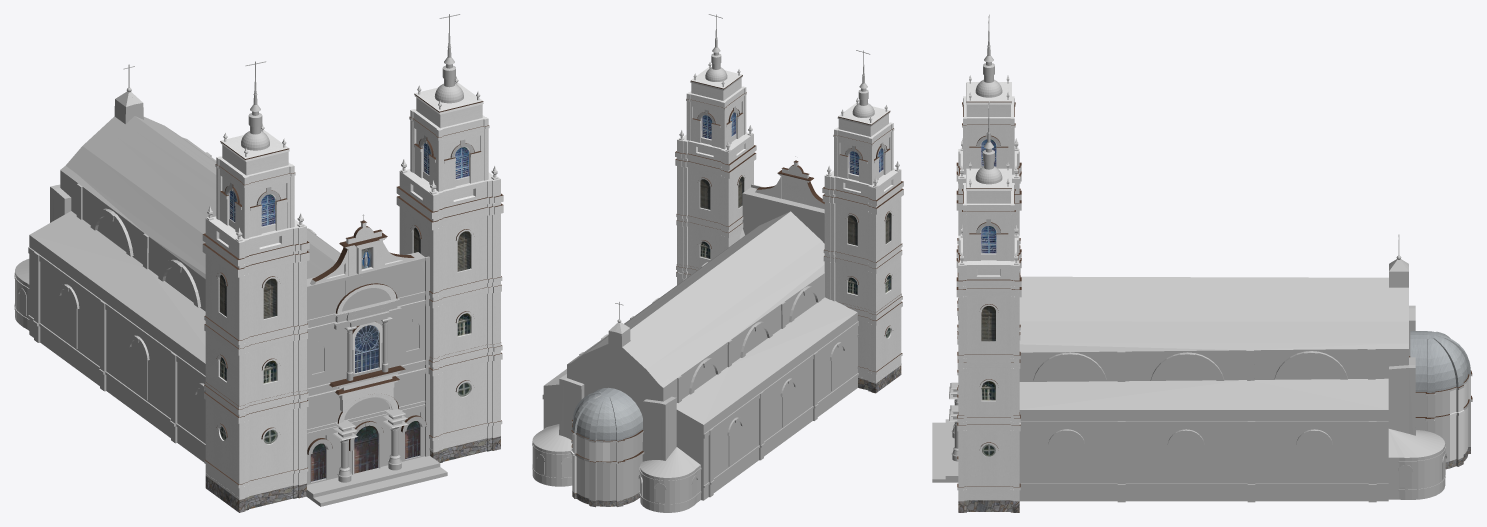
Rendered from cathedral_new.obj.
3 views of the same model, side by side, from view 1: azimuth 30°, elevation 25°; view 2: azimuth 150°, elevation 25°; view 3: azimuth 270°, elevation 25° (orthographic). The views are drawn at different scales.
Visible parts, largest first — view 1: Cube, Sphere.002, Sphere, Cube.001_Cube.002, Plane_Plane.001, Circle.002_Circle, Circle.003_Circle.006, Cube.003_Cube.004, Circle.001_Circle.003, Circle_Circle.001; view 2: Cube, Sphere.002, Sphere, Sphere.001, Cube.001_Cube.002, Cube.003_Cube.004; view 3: Cube, Sphere, Sphere.001, Sphere.002.
Part boxes in pixels (left/top/right/bottom): Cube: left=14, top=64, right=447, bottom=506; Sphere.002: left=202, top=61, right=309, bottom=512; Sphere: left=396, top=14, right=503, bottom=462; Cube.001_Cube.002: left=339, top=214, right=387, bottom=275; Plane_Plane.001: left=329, top=365, right=405, bottom=411; Circle.002_Circle: left=349, top=421, right=383, bottom=474; Circle.003_Circle.006: left=352, top=321, right=382, bottom=374; Cube.003_Cube.004: left=310, top=242, right=414, bottom=284; Circle.001_Circle.003: left=307, top=438, right=332, bottom=482; Circle_Circle.001: left=401, top=415, right=426, bottom=459; Cube: left=532, top=184, right=858, bottom=512; Sphere.002: left=822, top=50, right=903, bottom=393; Sphere: left=675, top=14, right=756, bottom=284; Sphere.001: left=570, top=387, right=644, bottom=507; Cube.001_Cube.002: left=777, top=156, right=813, bottom=204; Cube.003_Cube.004: left=755, top=176, right=824, bottom=209; Cube: left=932, top=234, right=1447, bottom=502; Sphere: left=956, top=101, right=1021, bottom=512; Sphere.001: left=1409, top=331, right=1472, bottom=469; Sphere.002: left=956, top=14, right=1021, bottom=375.
Size of the model in its own units: 20.9 by 32.42 by 40.24.
